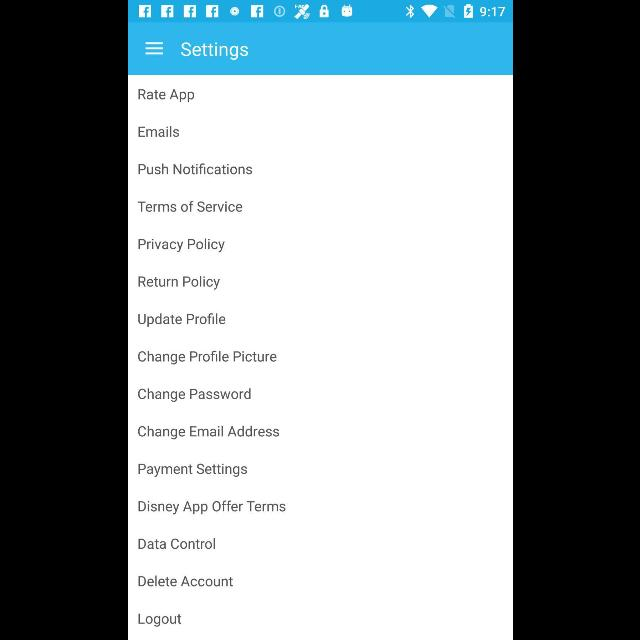icon: (144, 42, 162, 56)
text: (138, 500, 284, 514), (138, 426, 278, 440), (138, 351, 276, 365), (137, 388, 250, 402), (138, 464, 246, 476), (180, 41, 248, 60), (137, 163, 251, 174), (138, 313, 225, 327), (138, 238, 225, 252), (138, 276, 220, 290), (136, 202, 242, 212), (138, 576, 232, 586), (138, 538, 215, 550), (138, 90, 194, 102), (138, 614, 180, 626), (138, 126, 178, 138)
uppertaskbar: (128, 1, 512, 23)
